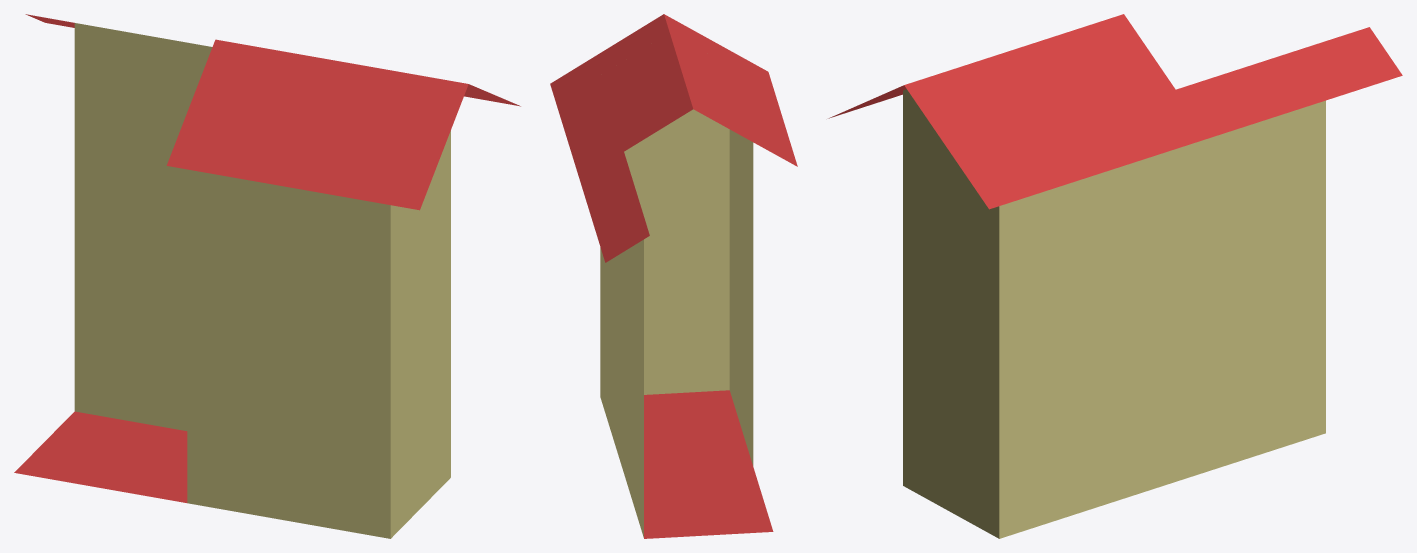
3 views of the same model, side by side, from view 1: azimuth 30°, elevation 25°; view 2: azimuth 150°, elevation 25°; view 3: azimuth 270°, elevation 25° (orthographic). The views are drawn at different scales.
Size of the model in its own units: 8.28 by 10.54 by 8.86.
